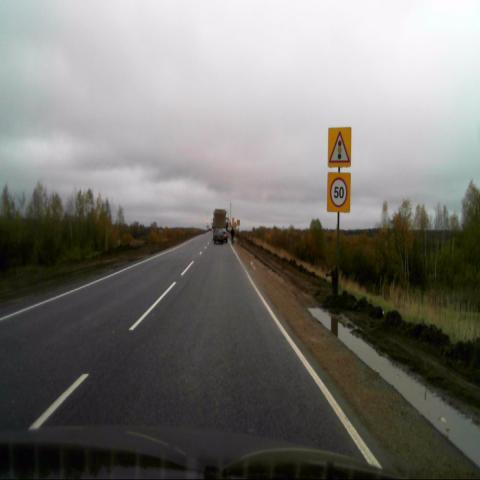1_8: (329, 125, 351, 167)
